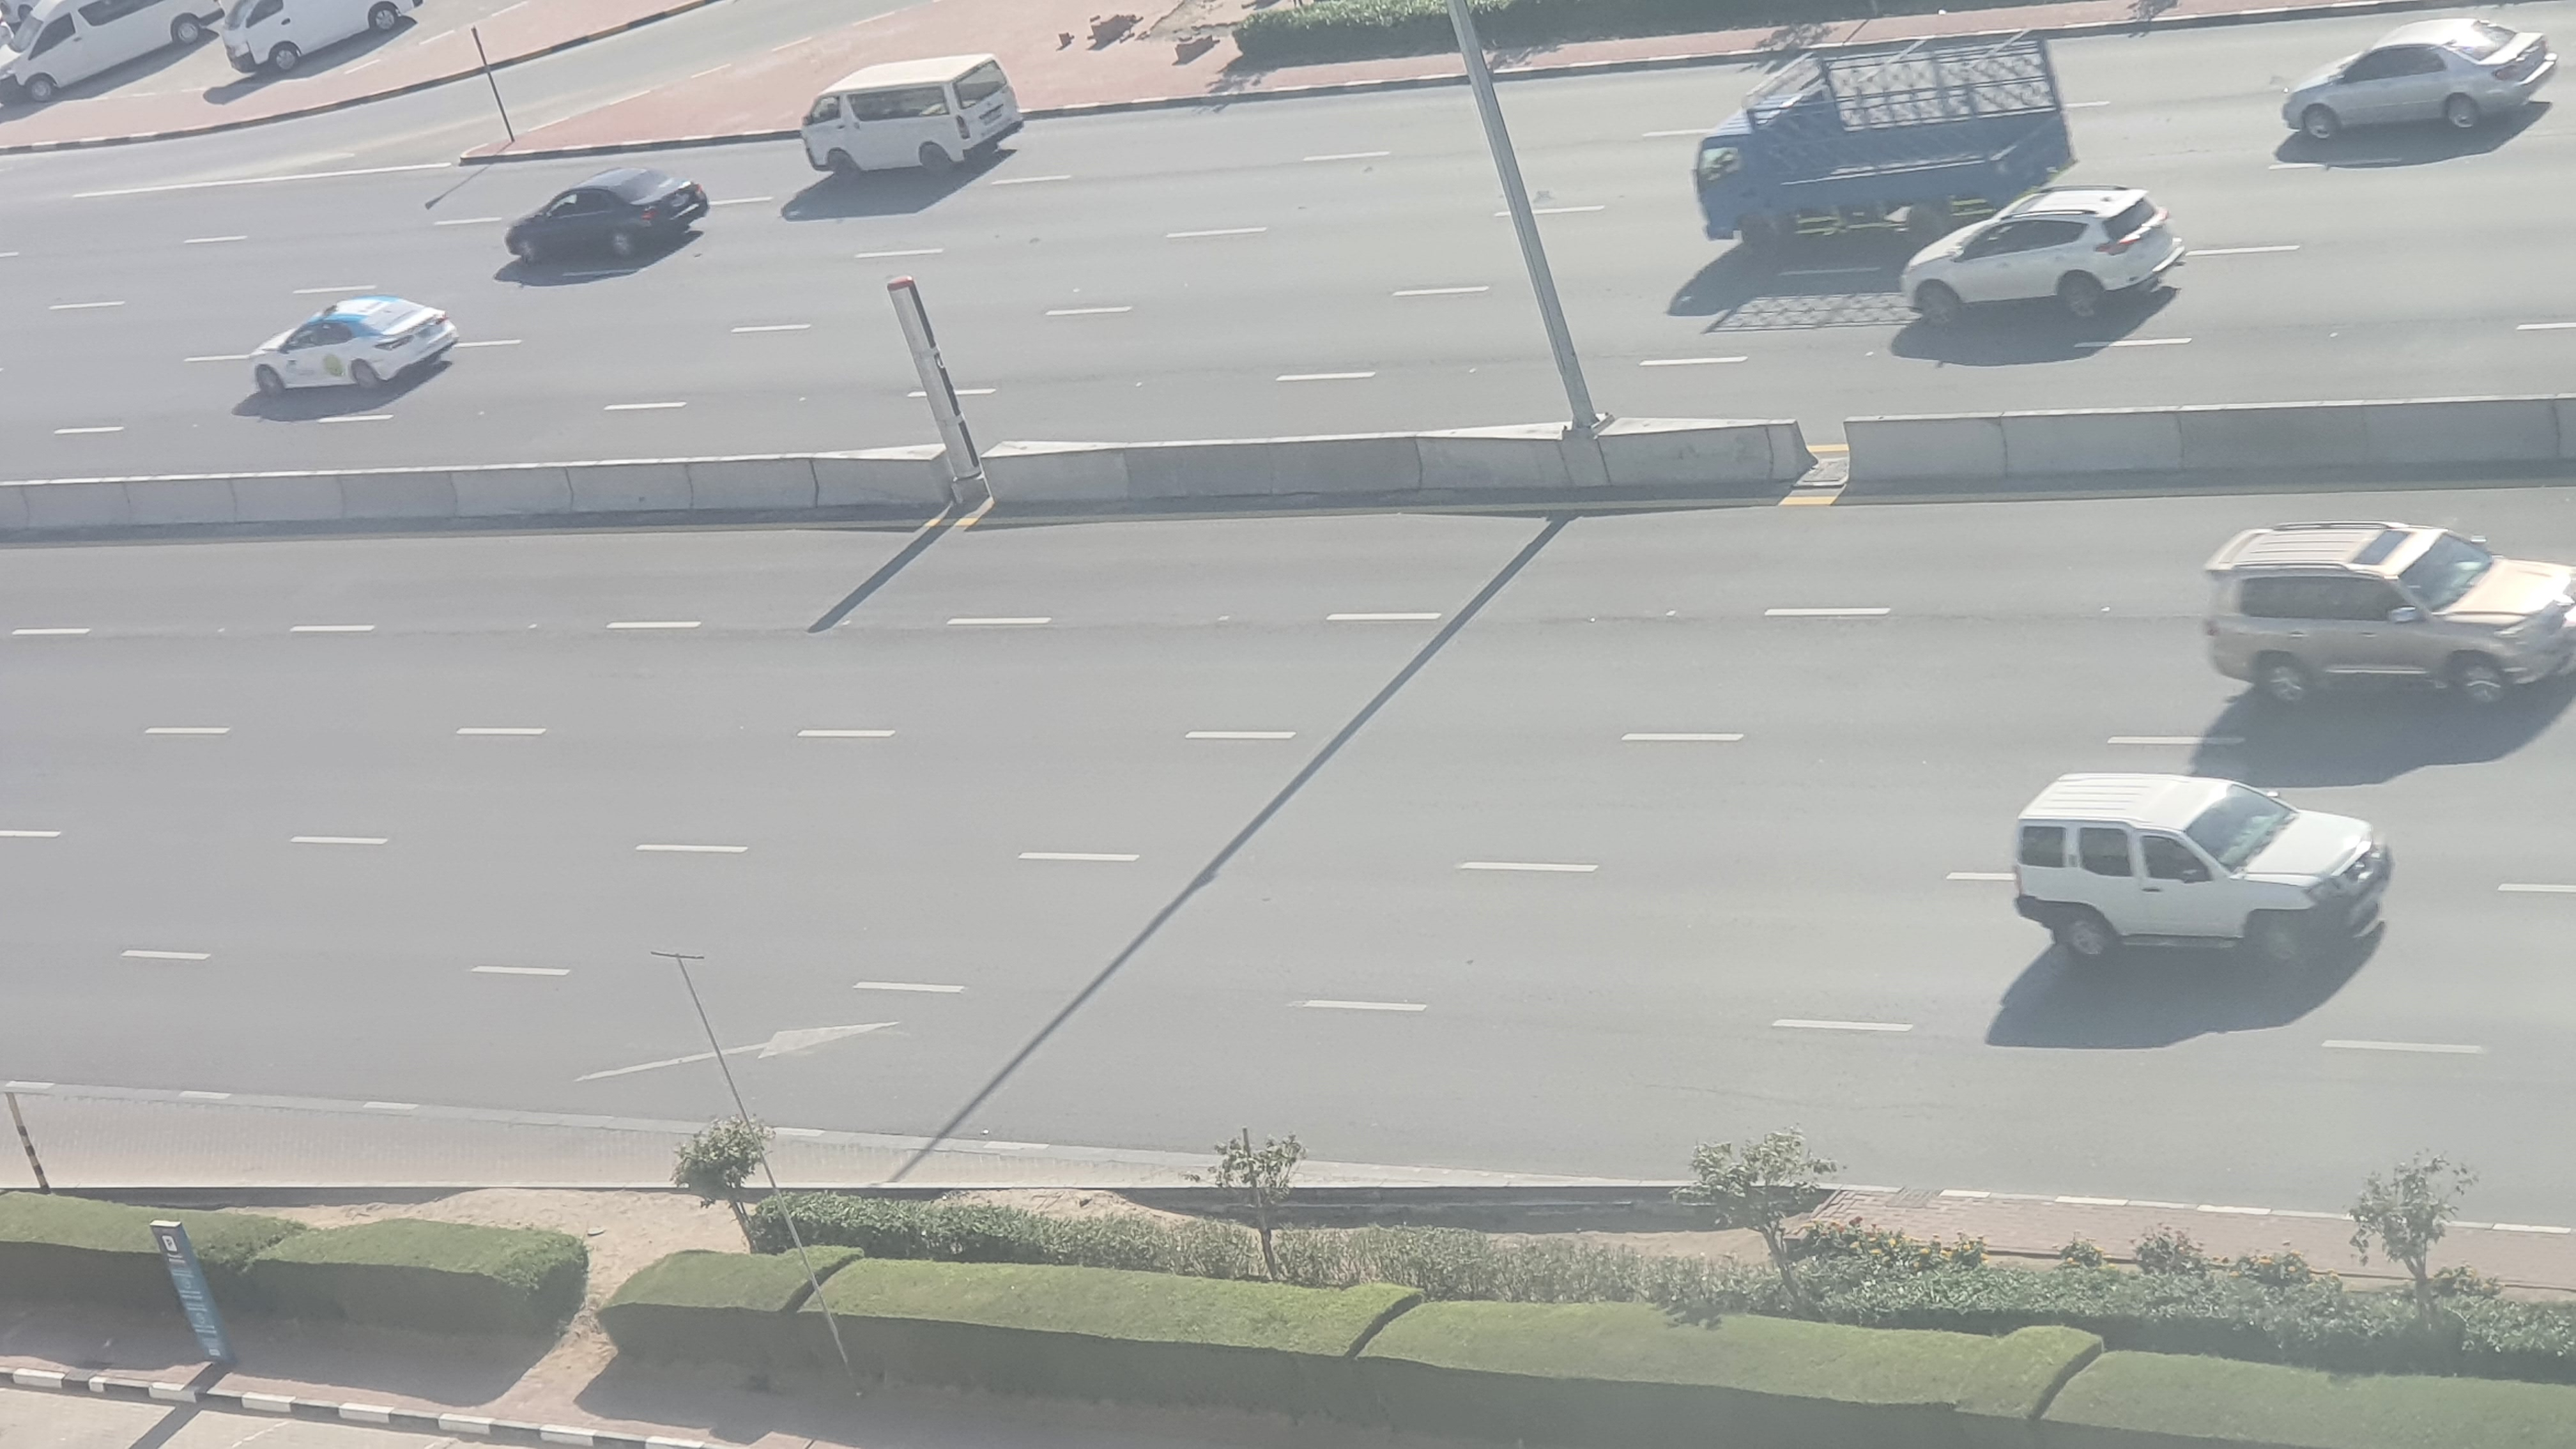NotSunroof: (2008, 770, 2390, 978)
Sunroof: (2201, 518, 2576, 708)
